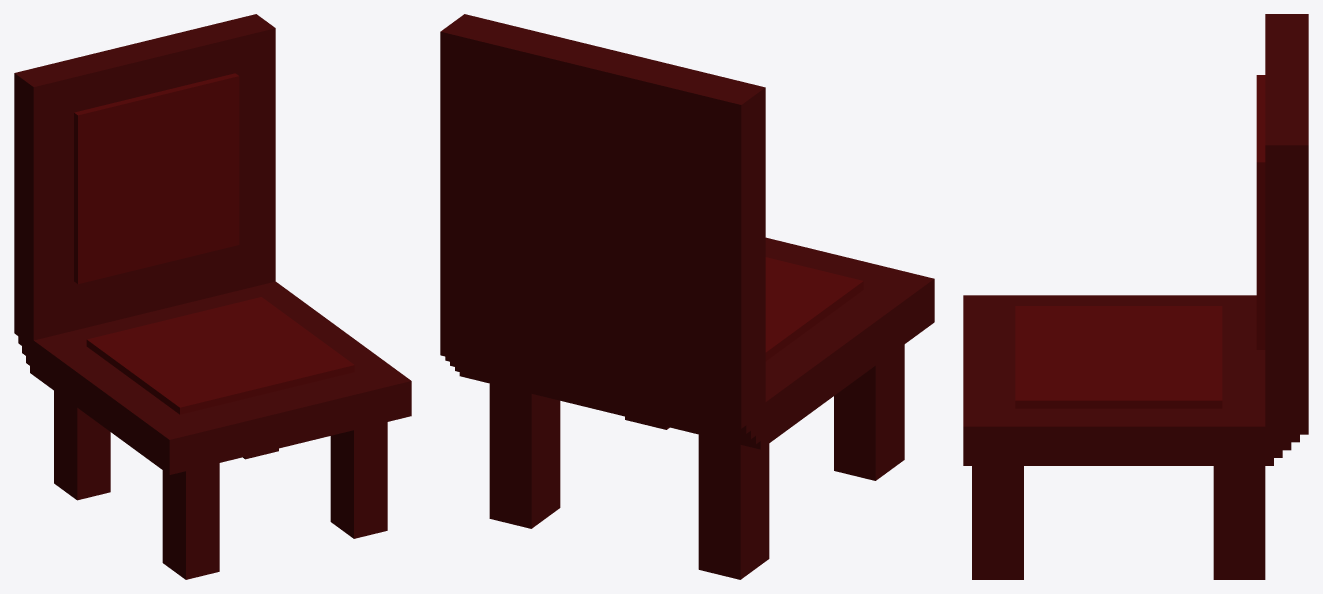
File: silla.obj
3 renders of one model, left to right at view 1: azimuth 30°, elevation 25°; view 2: azimuth 150°, elevation 25°; view 3: azimuth 270°, elevation 25°, orthographic. The views are drawn at different scales.
Bounding box in the file's own units: 3.6 × 5.7 × 4.
